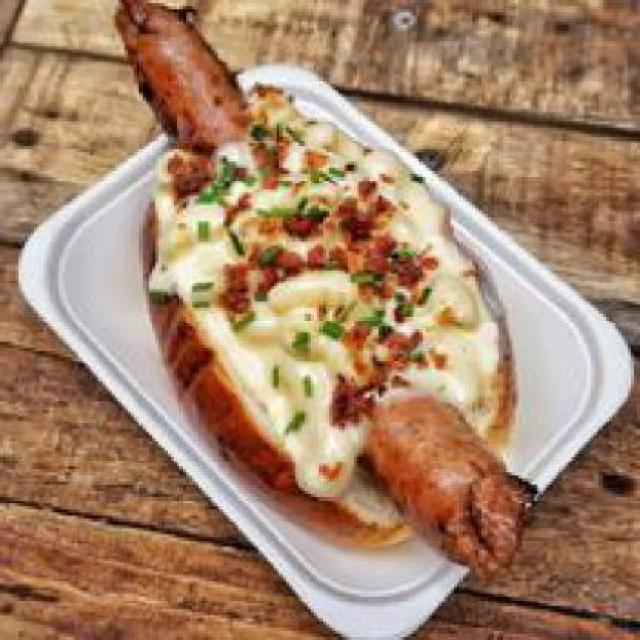hot dog: (361, 384, 553, 588)
macaroni and cheese: (149, 133, 500, 373)
